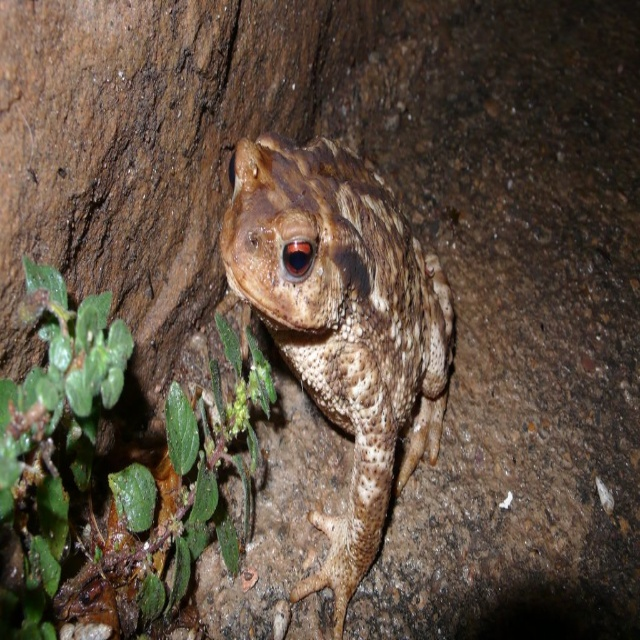Frog: (219, 131, 454, 640)
